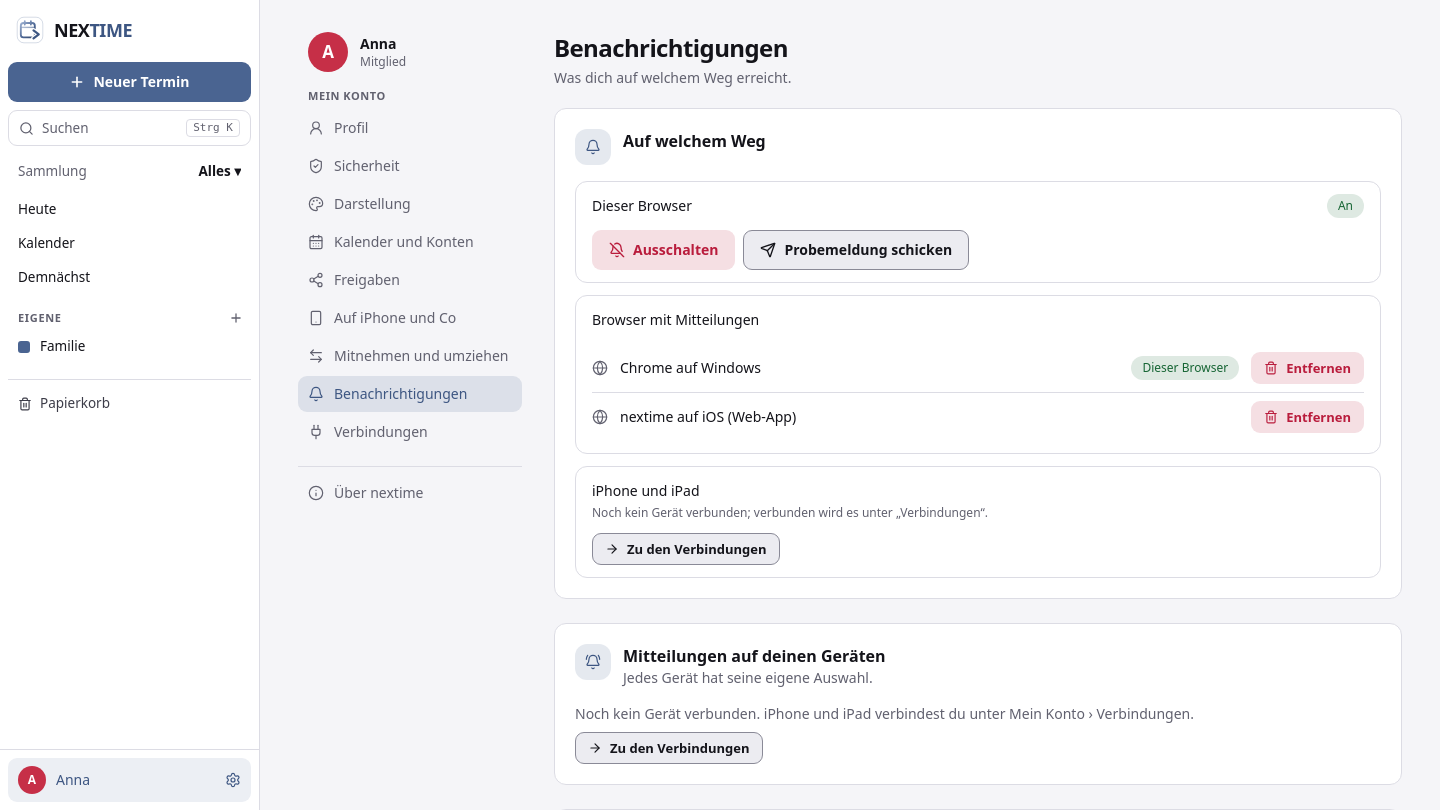
TIME-7 the area "Erinnerungen" › TIME-7 "Auf welchem Weg" (plan "Einstellungen", E34): a probe to this browser, the browsers with "Entfernen"
Step 1. Click the button "Probemeldung schicken" → (856,250), box [744,230,969,270]
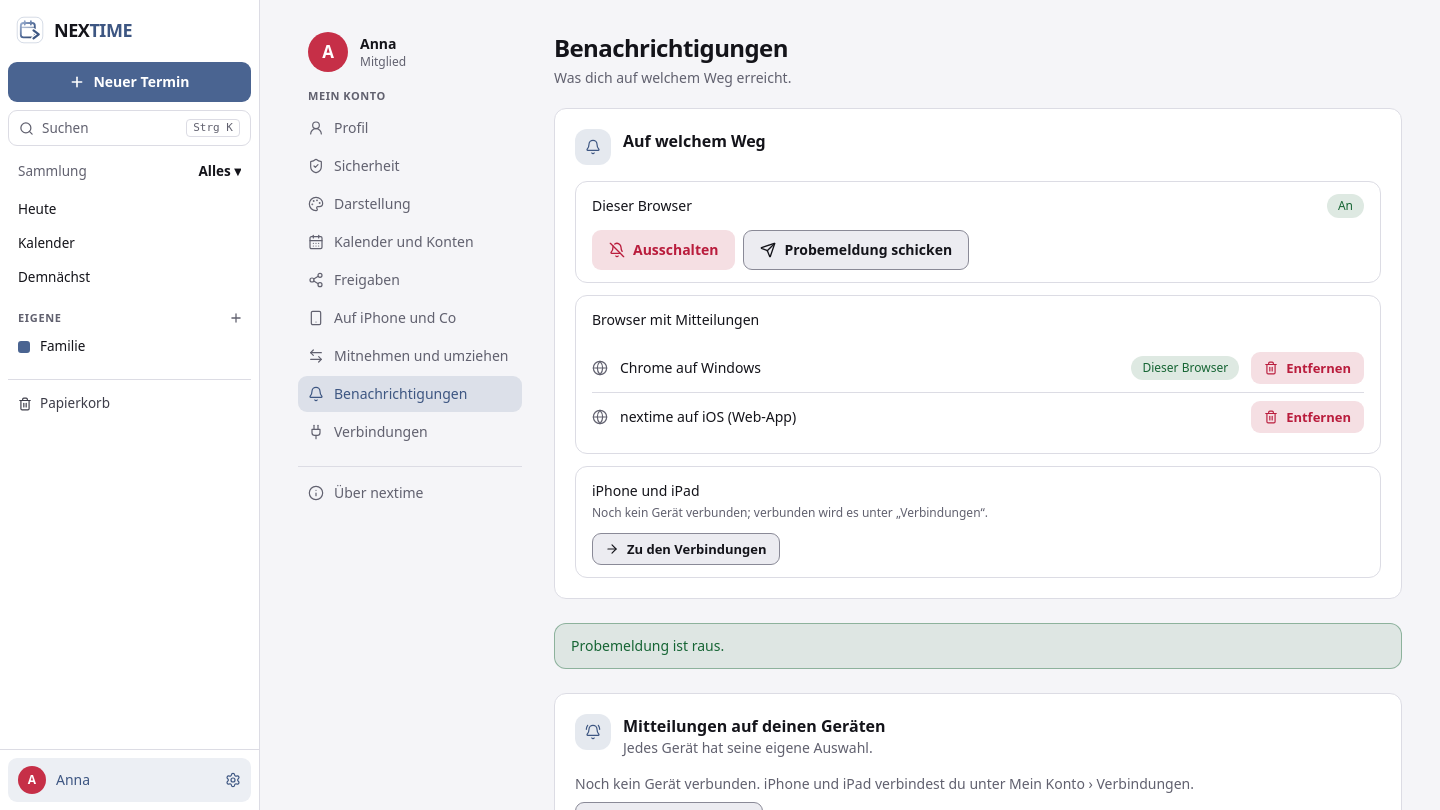
Expected: the text "Probemeldung ist raus." is shown, [571,636,724,655]
Step 2. Click the button "Entfernen" in the row of "nextime auf iOS (Web-App)" → (1308,417), box [1251,401,1364,433]
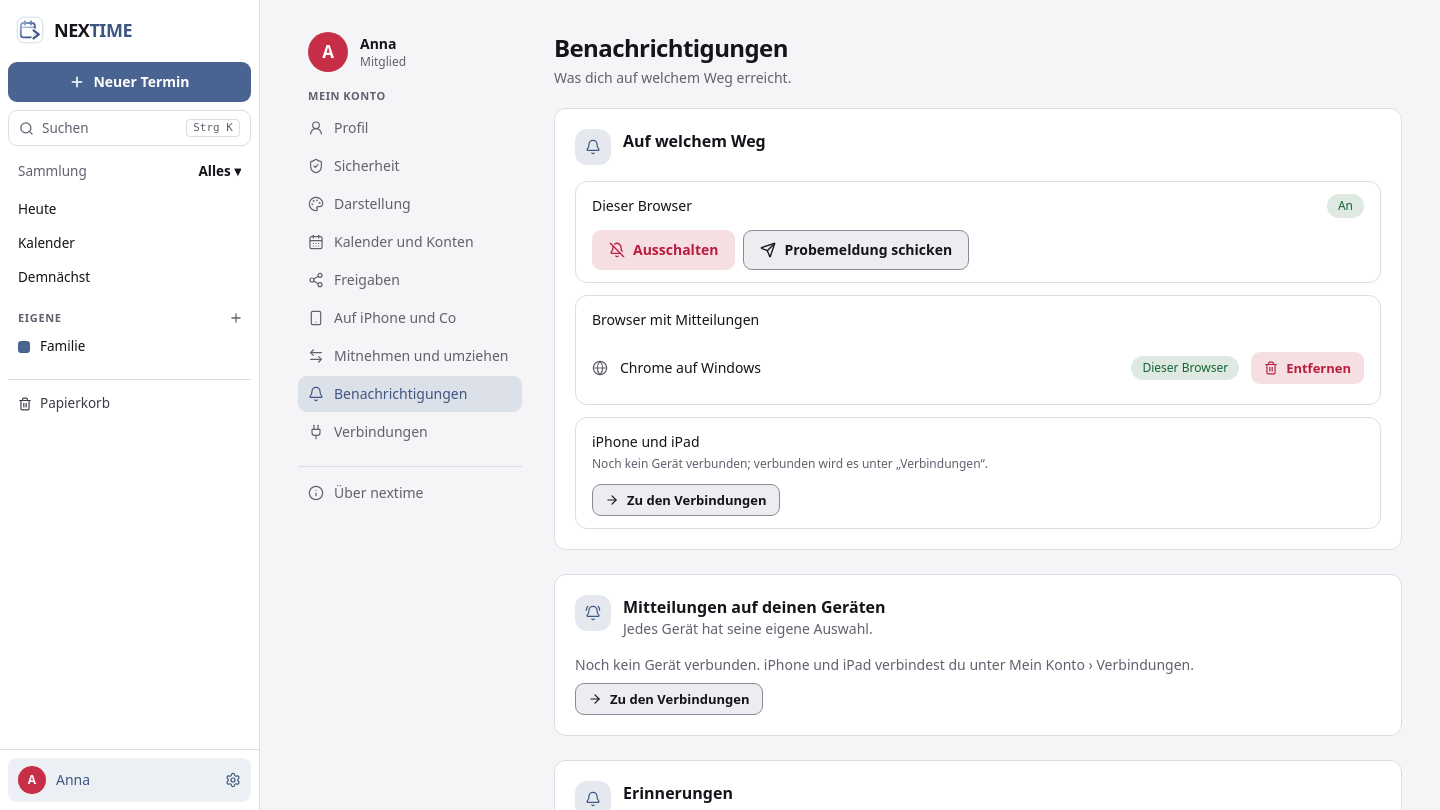
Expected: the number of list items with test id "notify-browser-row" is 1, [592,344,1364,392]
